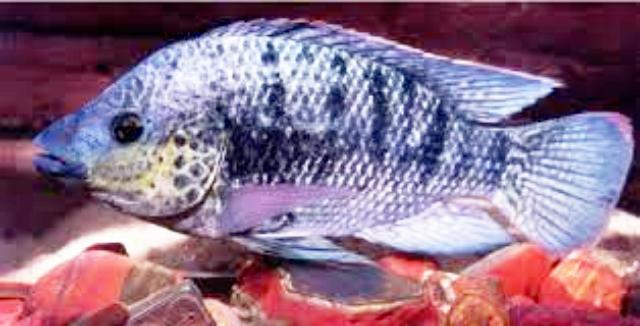Healthy Fish: (33, 18, 634, 271)
